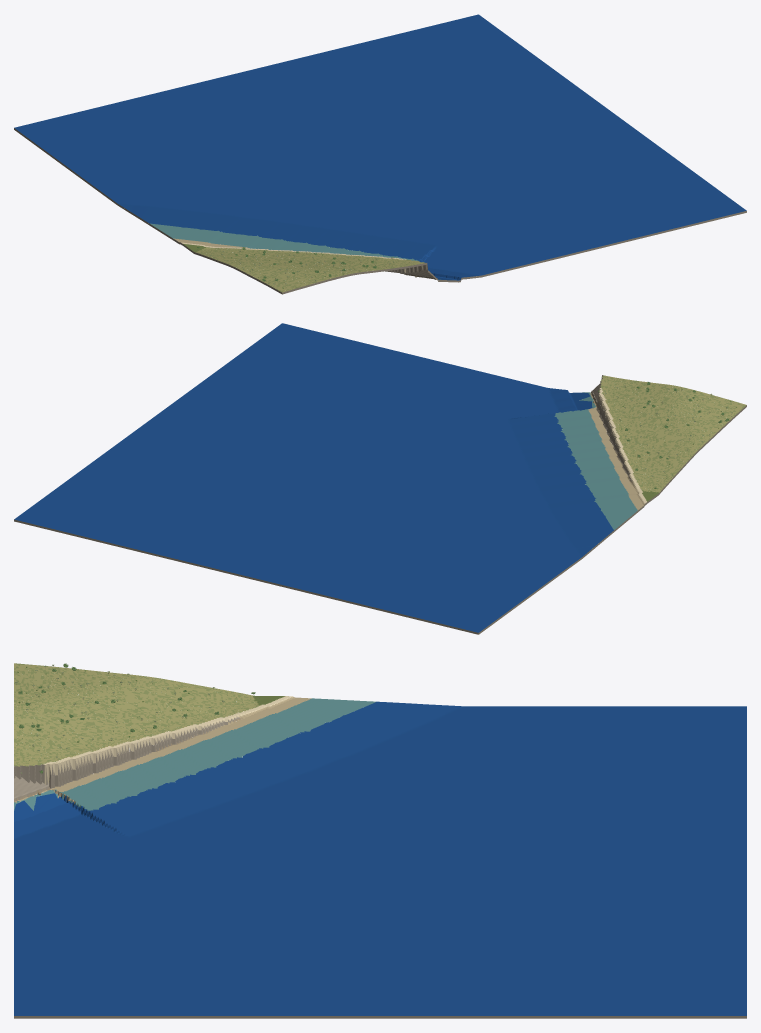
Rendered from parca_+10_+2-yakin.glb.
3 views of the same model, one above another, from view 1: azimuth 30°, elevation 25°; view 2: azimuth 150°, elevation 25°; view 3: azimuth 270°, elevation 25° (orthographic). The views are drawn at different scales.
Parts seen in each view (by area): view 1: parca_+10_+2_arazi; view 2: parca_+10_+2_arazi; view 3: parca_+10_+2_arazi, parca_+10_+2_bitkiler.
Boxes of the visible parts, x1,y1,x2,y2 form: parca_+10_+2_arazi: (14,14,746,294); parca_+10_+2_arazi: (14,323,746,634); parca_+10_+2_arazi: (14,663,746,1018); parca_+10_+2_bitkiler: (15,663,279,774).
Size of the model in its own units: 1002 by 78.15 by 1000.
